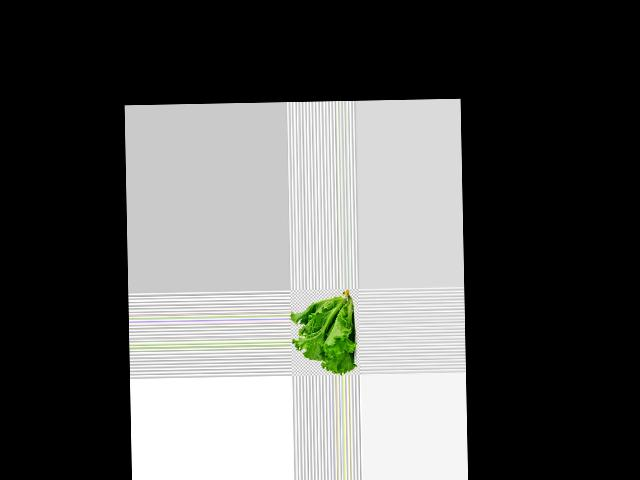lettuce: (290, 289, 354, 375)
